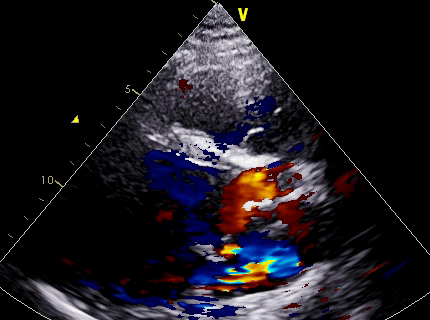AR: (217, 160, 306, 231)
